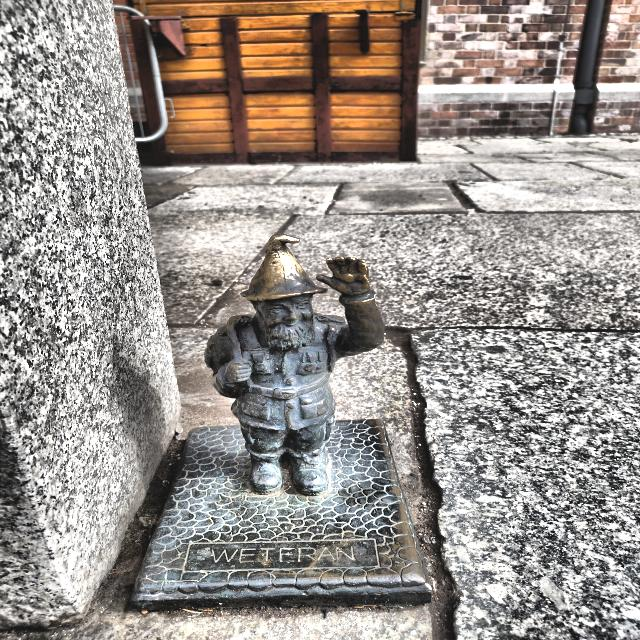Weteran: (205, 234, 385, 495)
